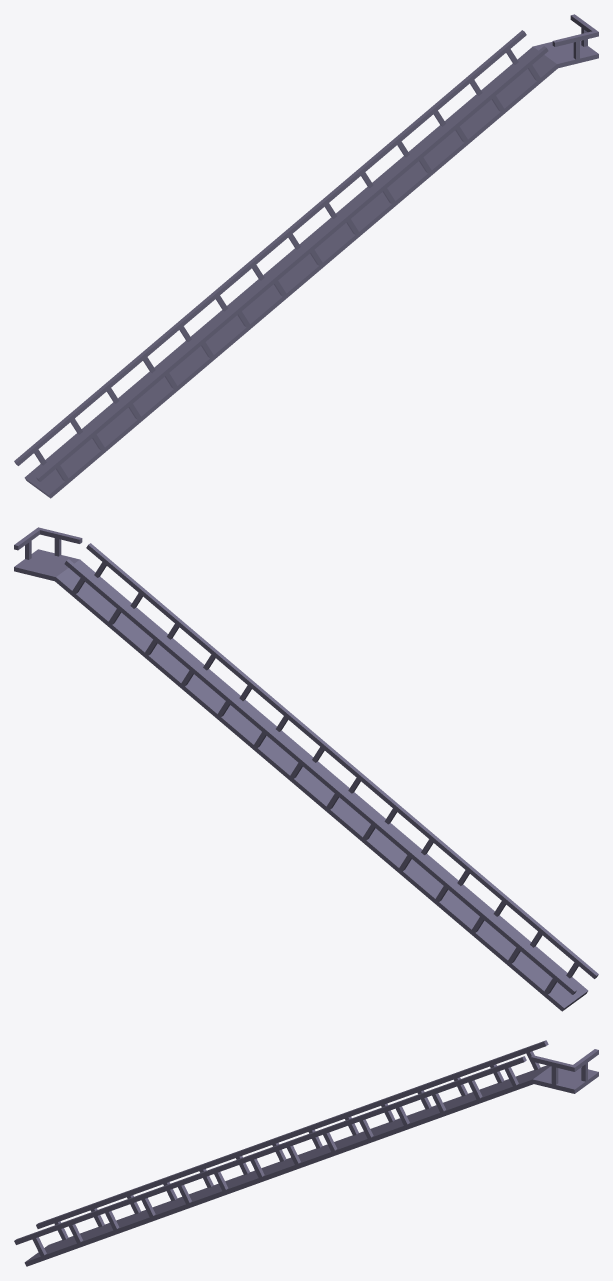
The model's file is staircase 30.fbx.
3 views of the same model, one above another, from view 1: azimuth 30°, elevation 25°; view 2: azimuth 150°, elevation 25°; view 3: azimuth 330°, elevation 25° (orthographic).
Visible parts, largest first — view 1: Staircase, Cube; view 2: Staircase, Cube; view 3: Staircase, Cube.
Boxes of the visible parts, x1,y1,x2,y2 form: Staircase: (14, 30, 558, 498); Cube: (533, 14, 598, 67); Staircase: (55, 543, 598, 1011); Cube: (14, 527, 82, 581); Staircase: (14, 1040, 550, 1266); Cube: (530, 1049, 598, 1093).
Bounding box in the file's own units: 200 × 2675 × 1517.
